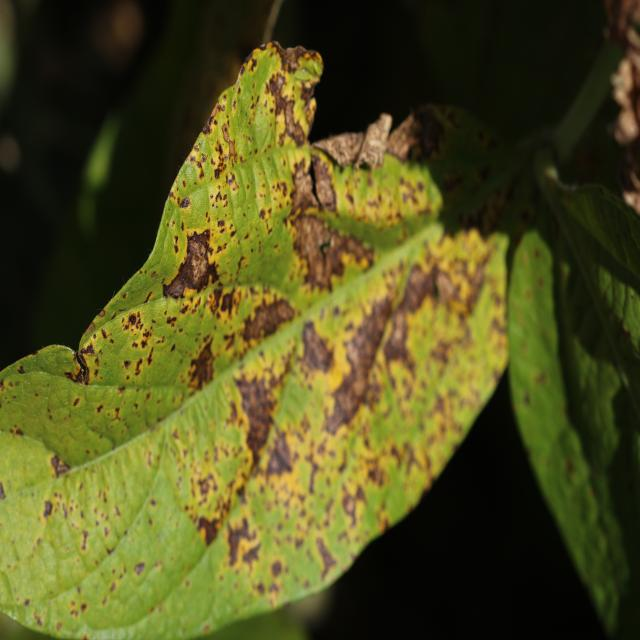Bacterial_Blight: (406, 353, 483, 467), (290, 212, 370, 291), (382, 464, 422, 523), (405, 106, 449, 159), (308, 152, 337, 213), (225, 513, 258, 565), (383, 315, 413, 372), (299, 323, 333, 373), (323, 388, 358, 435), (187, 340, 215, 390), (264, 433, 295, 476), (282, 92, 306, 145), (195, 506, 222, 553), (428, 335, 458, 371), (434, 267, 461, 305), (280, 44, 318, 71), (314, 536, 337, 579), (251, 100, 272, 144), (219, 120, 238, 165), (164, 271, 192, 300), (364, 458, 388, 488), (306, 460, 322, 494), (218, 288, 237, 315), (49, 454, 71, 477), (341, 493, 357, 517), (197, 474, 215, 495), (74, 364, 87, 385), (270, 558, 283, 578), (202, 114, 215, 134), (303, 84, 316, 103), (42, 498, 54, 518), (9, 424, 25, 438), (81, 342, 95, 357), (128, 311, 140, 328), (80, 530, 89, 551), (133, 561, 145, 576), (84, 322, 96, 336), (134, 358, 143, 376), (165, 314, 177, 327), (195, 160, 204, 177), (34, 613, 44, 628), (179, 197, 191, 209), (0, 481, 7, 500), (144, 290, 154, 303), (106, 542, 115, 556), (173, 234, 180, 252), (147, 347, 154, 364), (16, 364, 26, 375), (259, 42, 269, 53), (100, 328, 109, 340), (113, 505, 121, 518), (258, 208, 266, 220), (217, 219, 226, 229), (123, 359, 131, 370), (239, 64, 246, 76), (110, 581, 117, 593), (72, 397, 80, 407), (96, 404, 104, 414), (55, 621, 62, 632), (98, 309, 106, 318), (80, 602, 87, 612), (23, 598, 30, 607), (232, 98, 237, 110), (170, 343, 176, 352), (243, 232, 249, 241)
Soybean: (0, 42, 548, 640)
